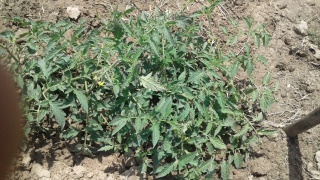tomato flower: (91, 69, 108, 91)
tomato plant: (35, 22, 245, 156)
